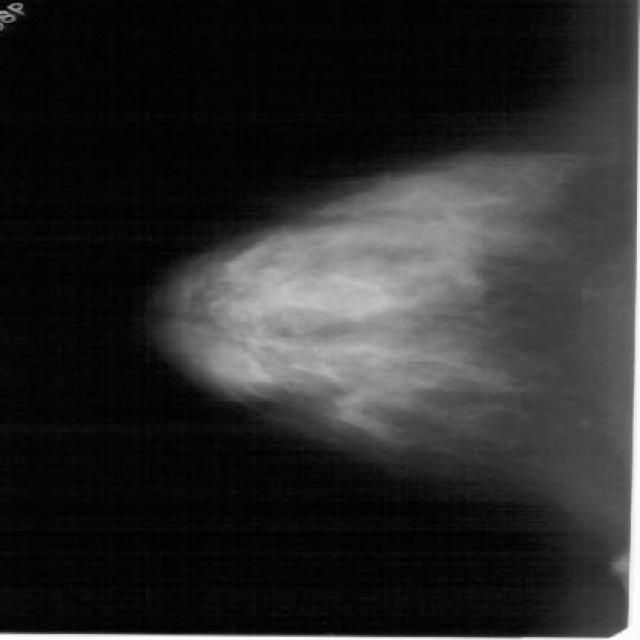tumor: (214, 237, 403, 400)
